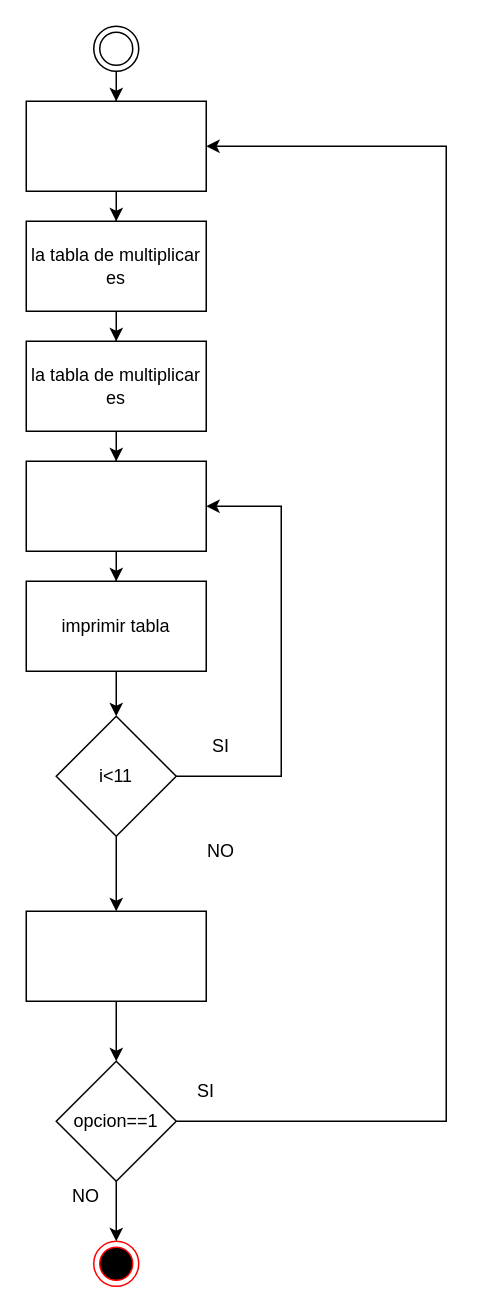
Some shapes in this 485 by 1313 pixel diagram are drawn without their labels. Each missing label, with the centre of its shape:
"i=0,i++" goes at pixel 115 505.
"Introduzca la tabla que quiere" goes at pixel 115 145.
"Si desea continuar presione 1" goes at pixel 115 955.
